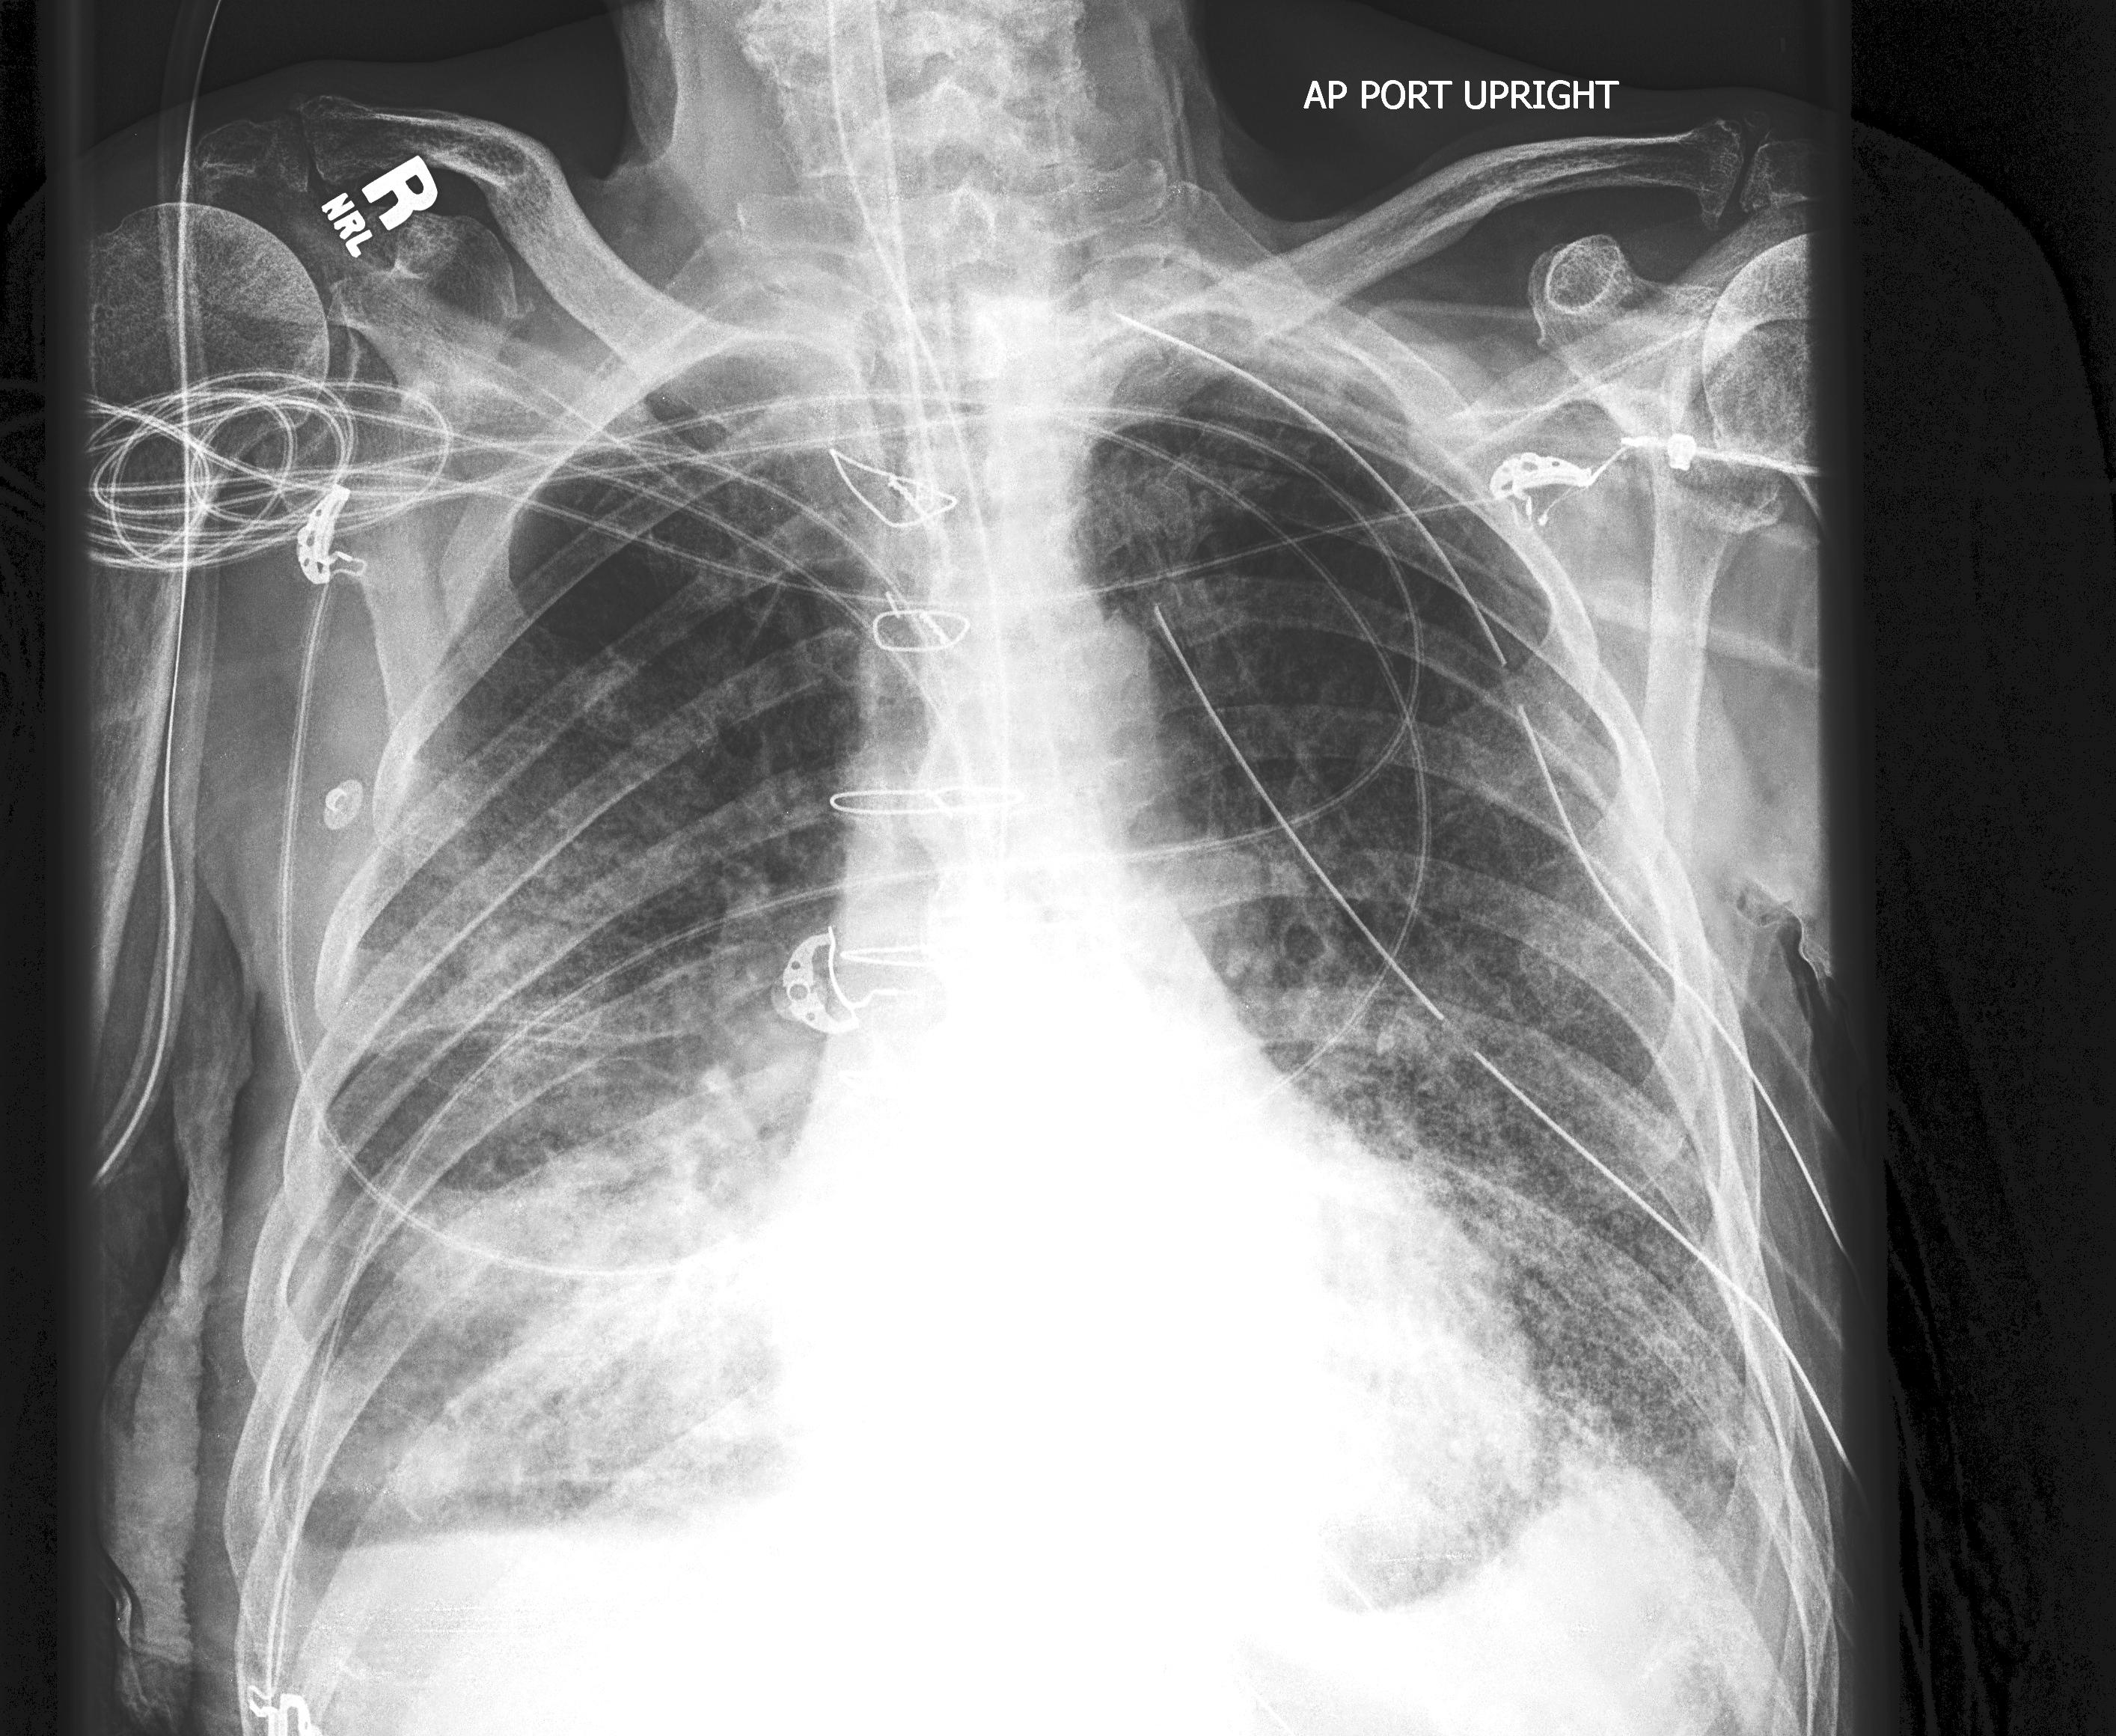Pleural Effusion: (1343, 1400, 1849, 1736), (211, 1495, 731, 1711)
